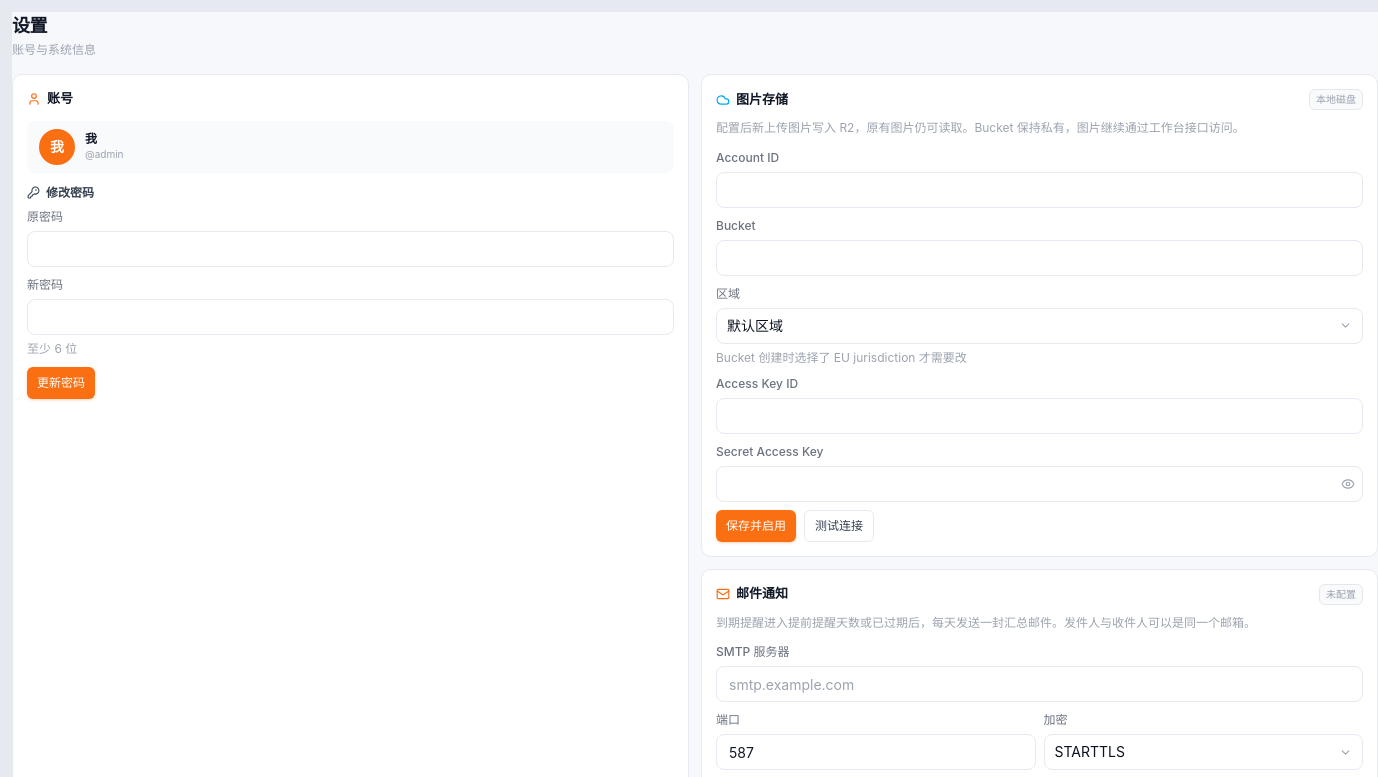
SettingsPage 修改密码 › 成功后提示密码已更新
The image size is (1378, 777).
Type "oldpass" into the password field below "原密码". click: [350, 248]
box: [27,230,674,266]
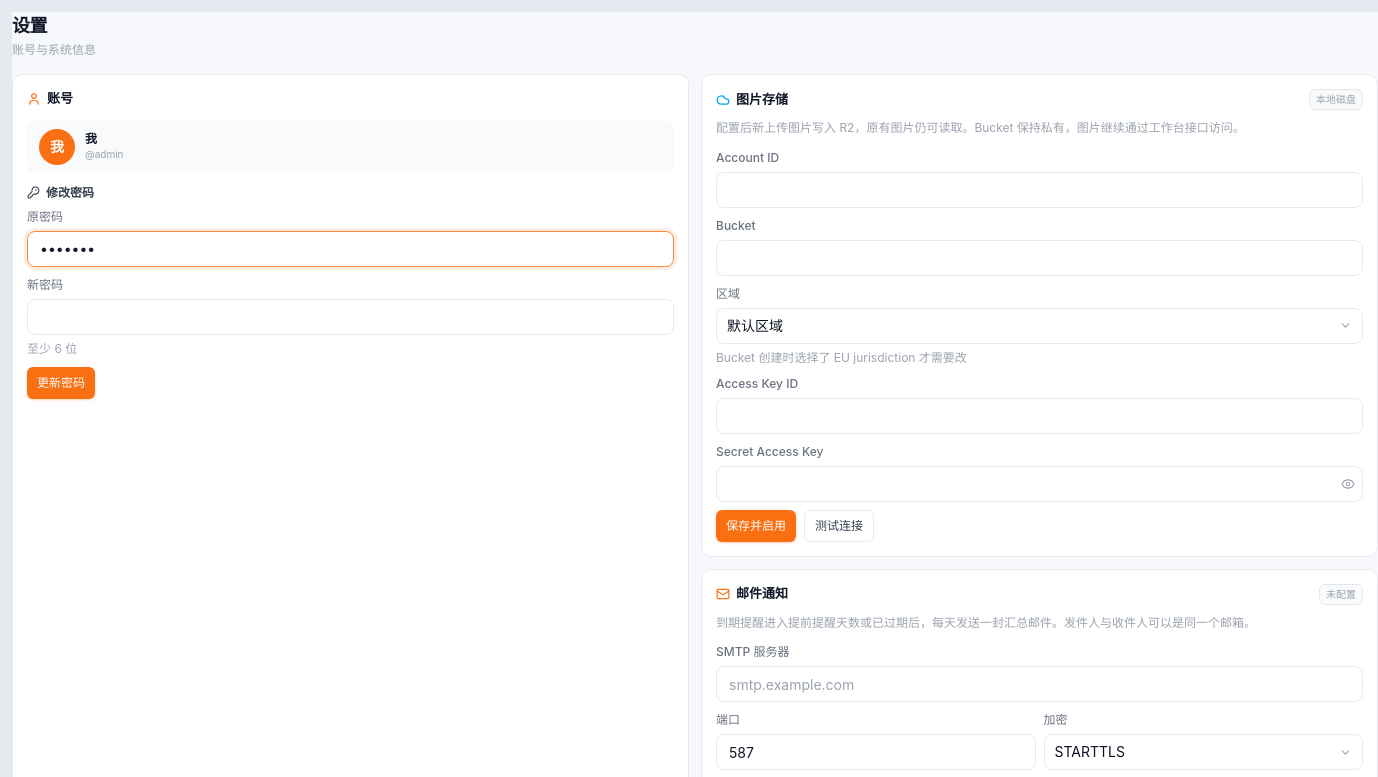
Type "newpass" into the 2nd password field. click: [350, 316]
box: [27,298,674,334]
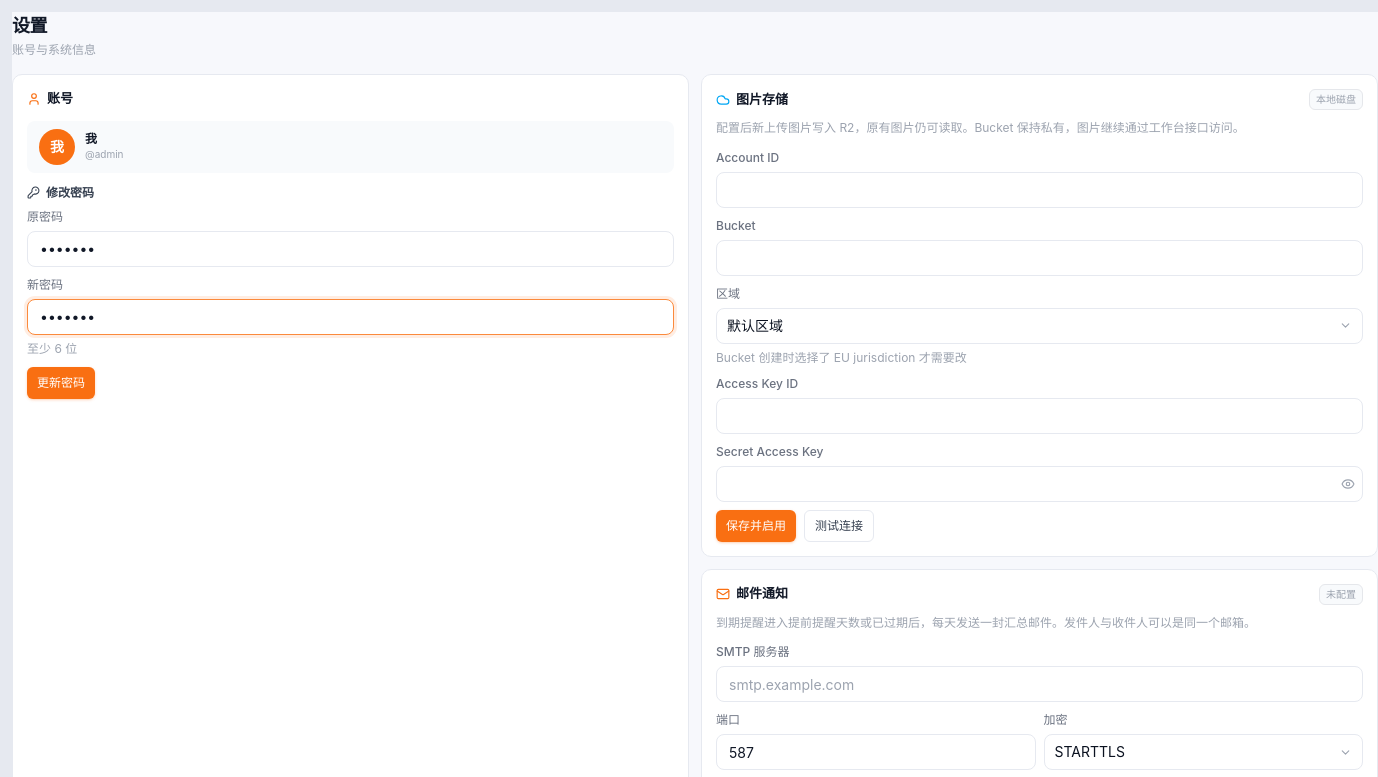
Click the button "更新密码". click: [61, 382]
box: [27,366,95,398]
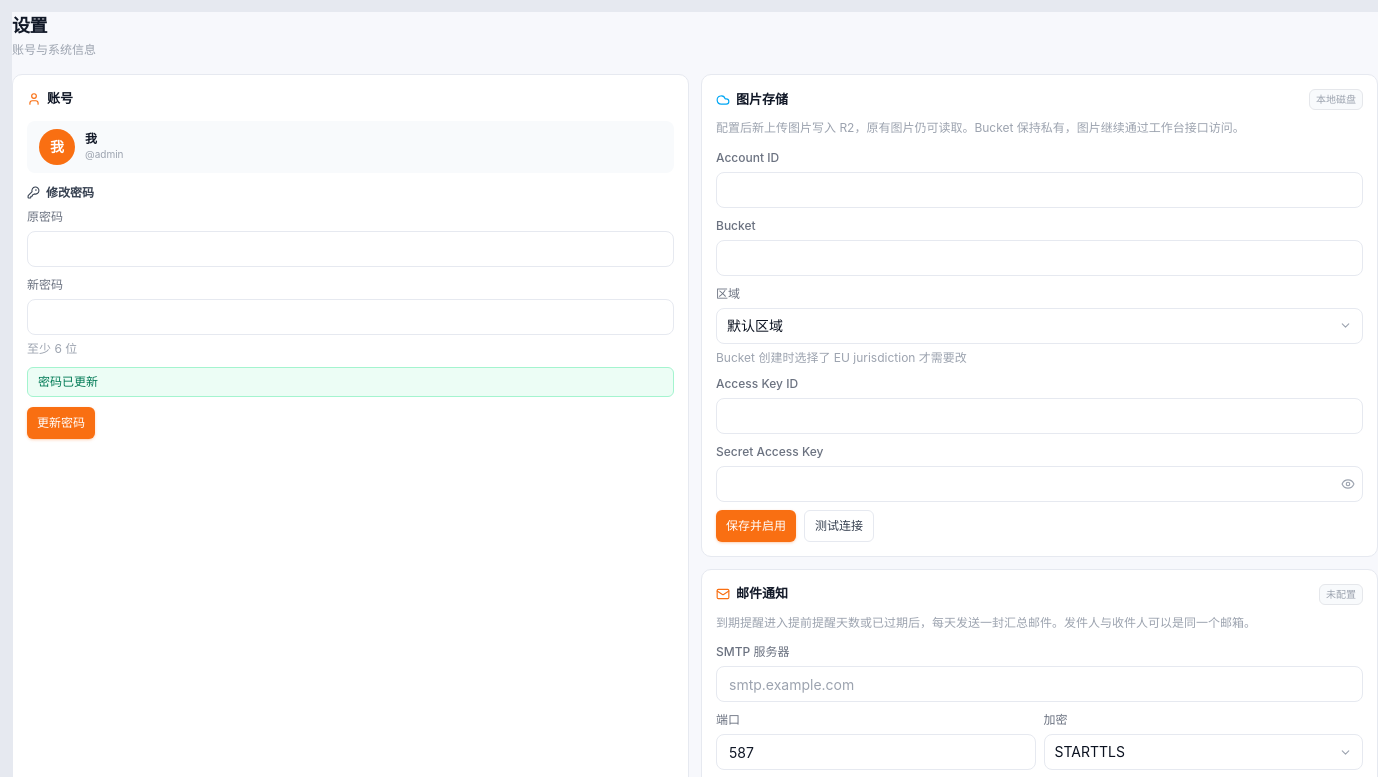
Check: the text "密码已更新" is shown, box [27,366,674,396]
